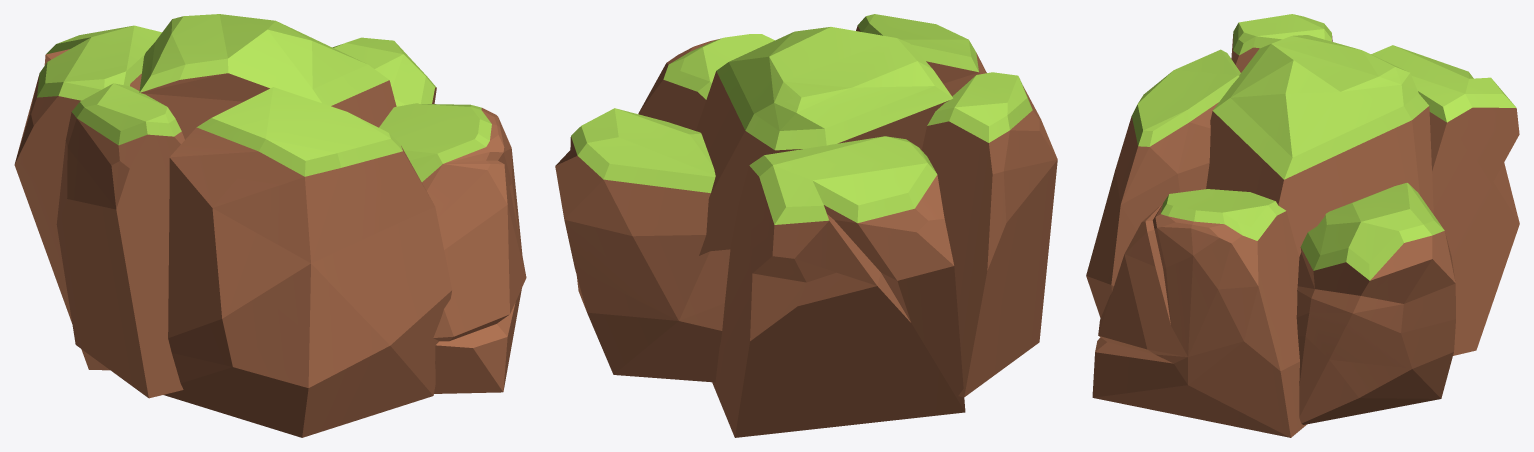
The model's file is dm11.rock.lg.v2.01.glb.
The picture shows the model from 3 angles, left to right: view 1: azimuth 30°, elevation 25°; view 2: azimuth 150°, elevation 25°; view 3: azimuth 270°, elevation 25°; orthographic projection. The views are drawn at different scales.
Visible parts, largest first — view 1: PP_Rock_Pile_Forest_Moss_10.001_PP_Standard_Material_0; view 2: PP_Rock_Pile_Forest_Moss_10.001_PP_Standard_Material_0; view 3: PP_Rock_Pile_Forest_Moss_10.001_PP_Standard_Material_0.
Part boxes in pixels (left/top/right/bottom): PP_Rock_Pile_Forest_Moss_10.001_PP_Standard_Material_0: left=14, top=14, right=526, bottom=437; PP_Rock_Pile_Forest_Moss_10.001_PP_Standard_Material_0: left=555, top=14, right=1057, bottom=437; PP_Rock_Pile_Forest_Moss_10.001_PP_Standard_Material_0: left=1086, top=14, right=1519, bottom=437.
Size of the model in its own units: 5.06 by 3.89 by 5.2.
Materials: 1 (1 with a texture image).
